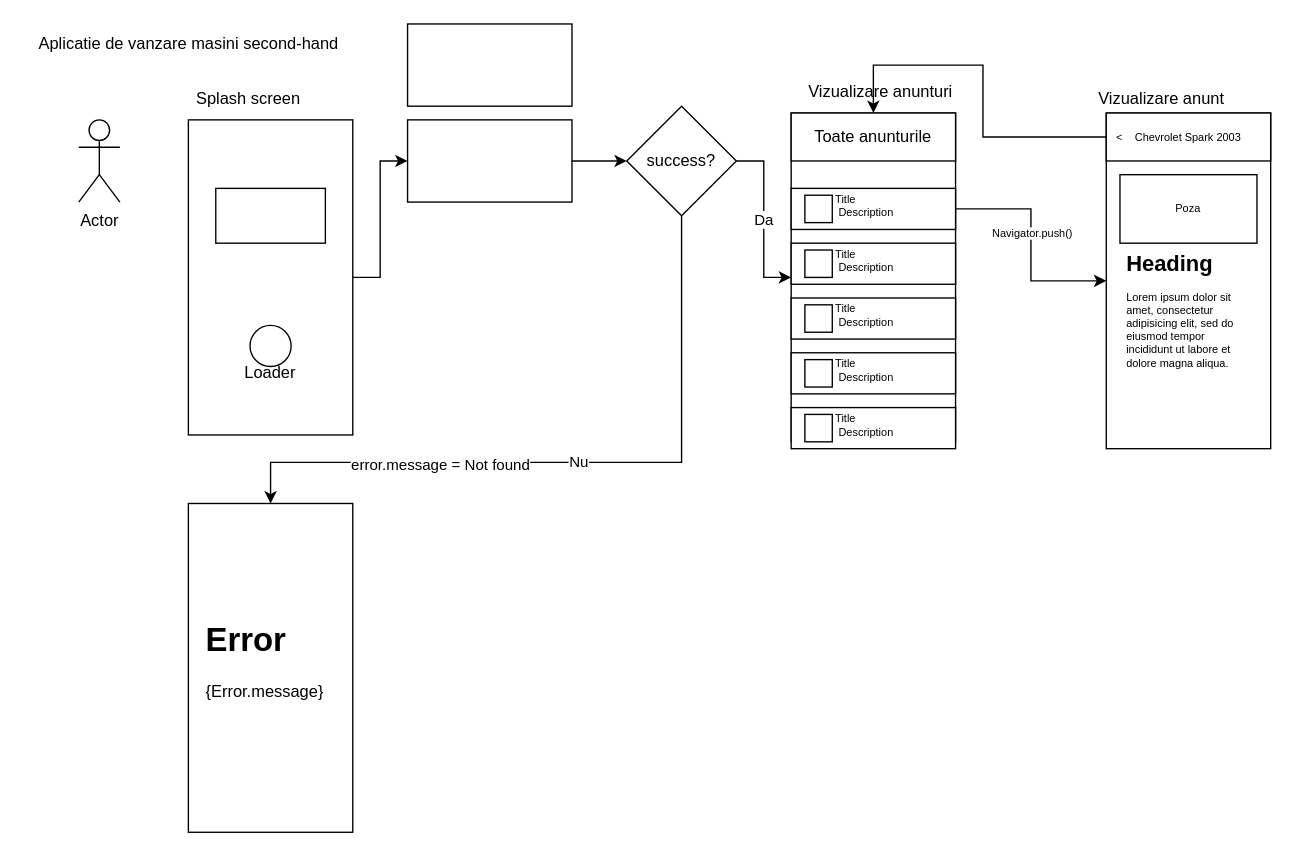
This 1295x856 diagram has some shape labels left out. Here are the shapes that lost their labels. From the top down, the centre of each, then its label:
At point 489,64: "Future.delayed()".
At point 489,160: "Preluare date anunturi prin API".
At point 269,215: "Logo".
